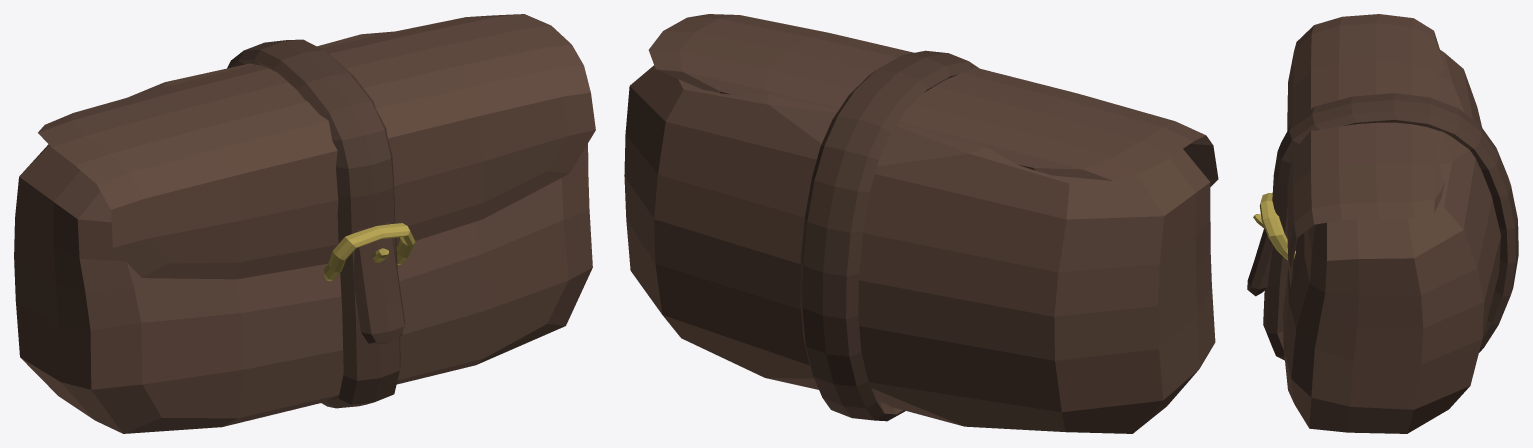
The model's file is travel-bag-organizer-green.glb.
3 views of the same model, side by side, from view 1: azimuth 30°, elevation 25°; view 2: azimuth 150°, elevation 25°; view 3: azimuth 270°, elevation 25° (orthographic). The views are drawn at different scales.
Parts seen in each view (by area): view 1: Bag; view 2: Bag; view 3: Bag.
Part boxes in pixels (<box>): Bag: <box>14,14,595,433</box>; Bag: <box>624,14,1218,433</box>; Bag: <box>1247,14,1518,433</box>.
Size of the model in its own units: 0.946 by 0.5521 by 0.5061.
